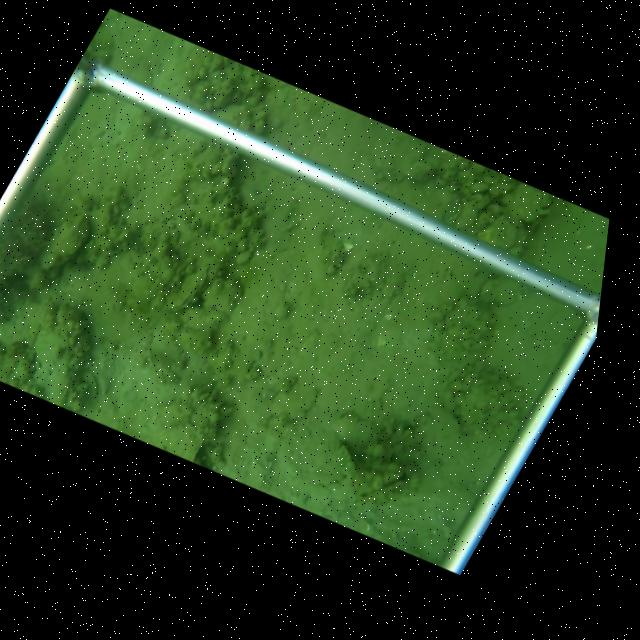Oyster-Closed: (31, 324, 73, 408), (159, 267, 208, 314), (333, 436, 361, 485)
Oyster-Indeterminate: (34, 217, 91, 281), (164, 420, 206, 462), (300, 243, 349, 277)
Oyster-Open: (353, 467, 411, 506)
